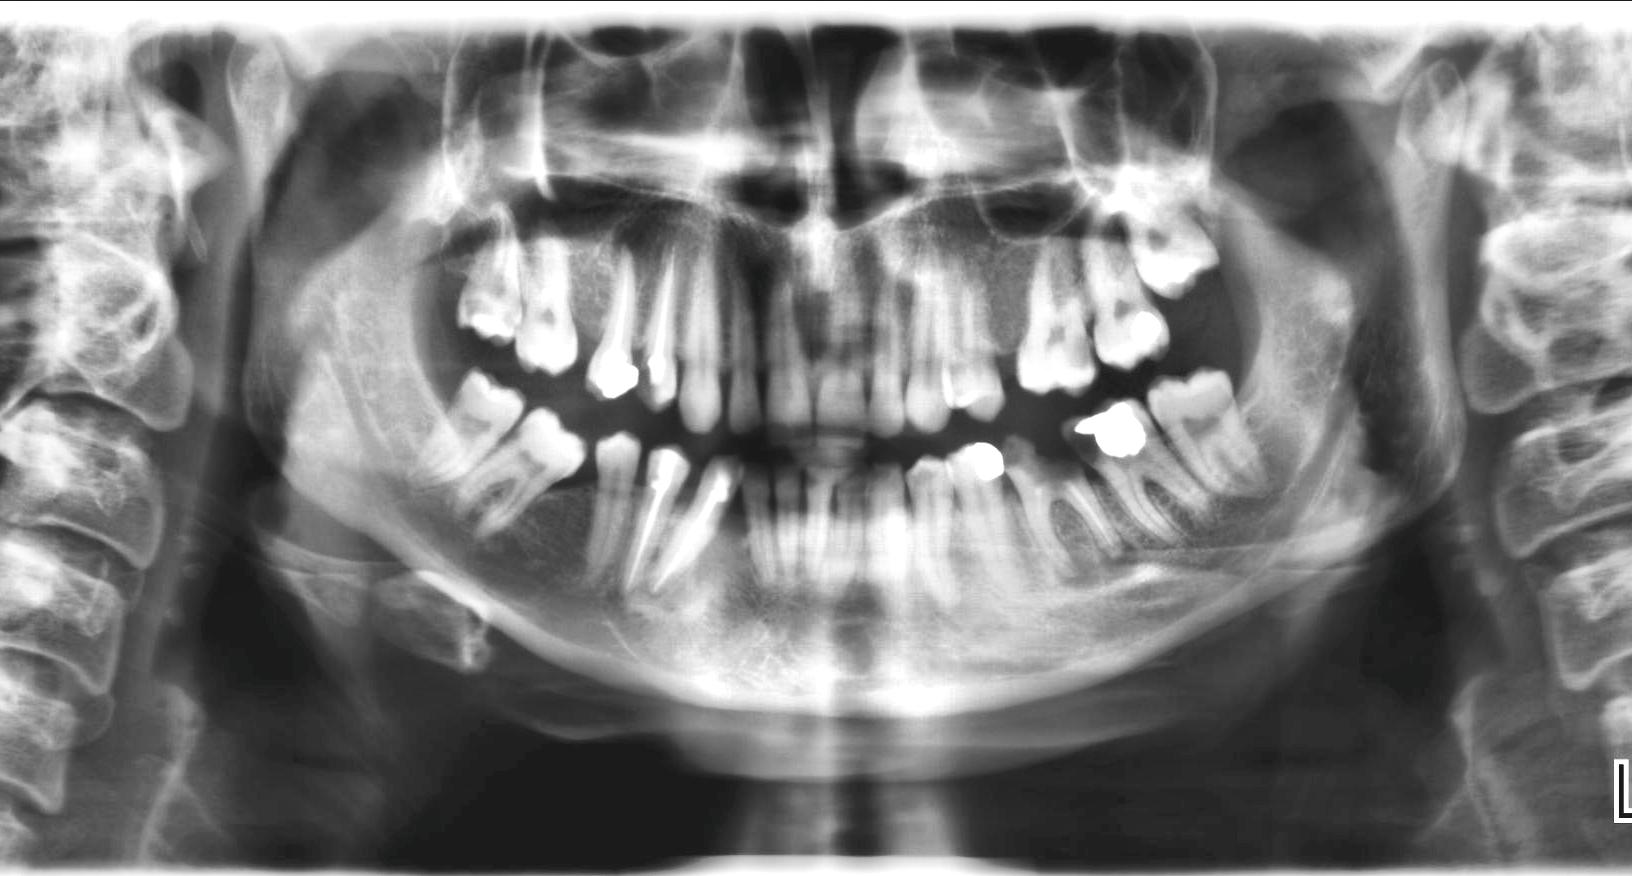radikuler: (606, 206, 663, 288), (1052, 548, 1101, 597), (1095, 536, 1141, 581)
